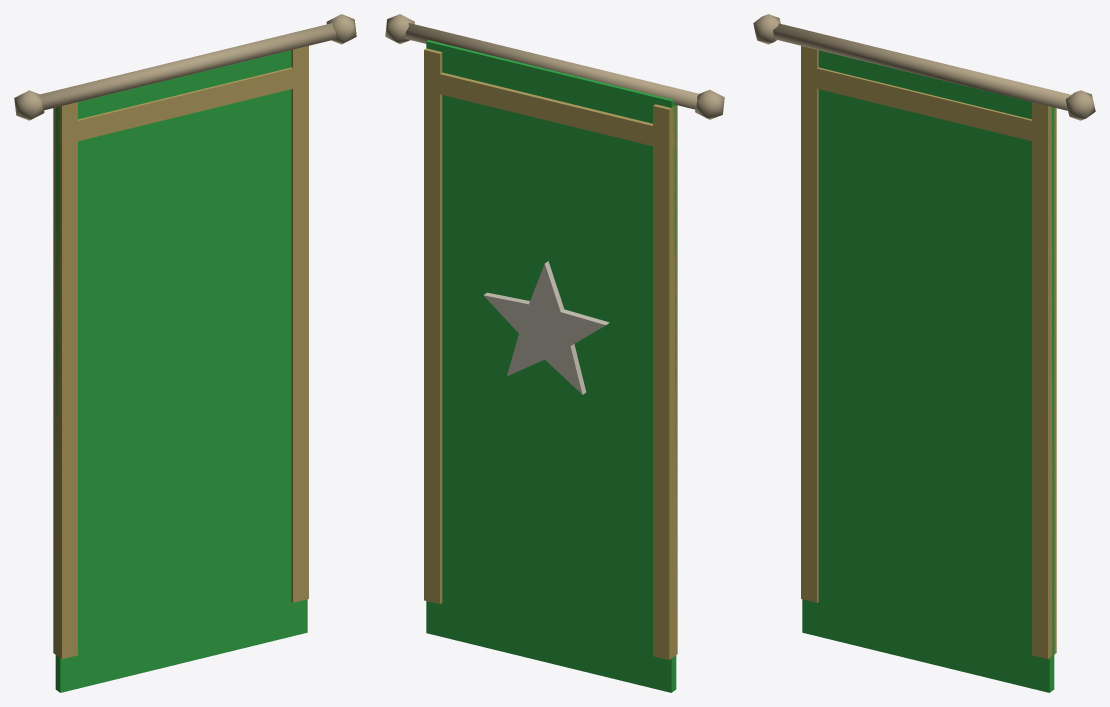
The model's file is martian_drone_banner_v0.glb.
3 views of the same model, side by side, from view 1: azimuth 30°, elevation 25°; view 2: azimuth 150°, elevation 25°; view 3: azimuth 330°, elevation 25° (orthographic).
Visible parts, largest first — view 1: martian_drone_banner_v0; view 2: martian_drone_banner_v0; view 3: martian_drone_banner_v0.
Part boxes in pixels (x1=…): martian_drone_banner_v0: x1=14, y1=14, x2=356, y2=692; martian_drone_banner_v0: x1=385, y1=14, x2=724, y2=692; martian_drone_banner_v0: x1=753, y1=14, x2=1095, y2=692.
Bounding box in the file's own units: 1.04 × 1.8 × 0.0933.
